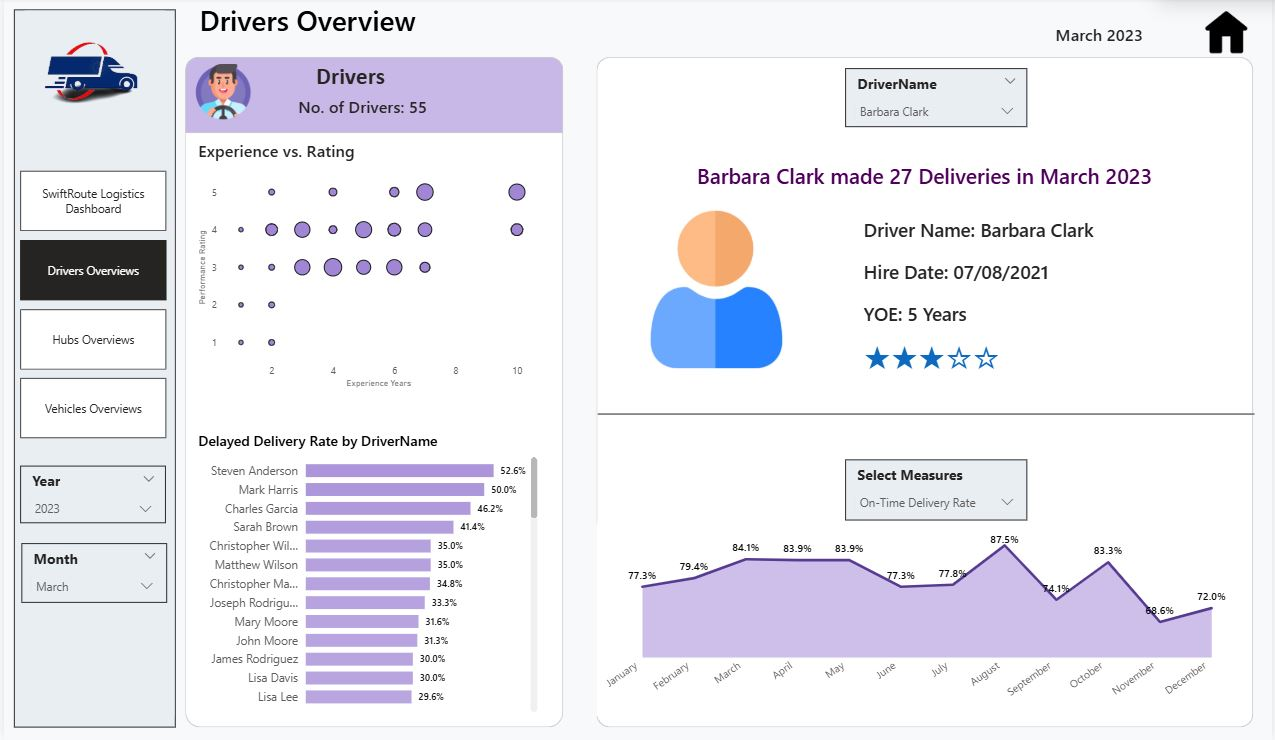

The dashboard page shown, as its layout file describes it:
{"tool":"powerbi","page":{"name":"Drivers Overviews","canvas":[1450,850],"ordinal":1},"visuals":[{"type":"shape","box":[10.9,14,185,820.8],"z":0},{"type":"textbox","box":[219.2,0,505.2,57.5],"z":1000},{"type":"slicer","fields":{"Values":["Date Table.Year"]},"box":[18.7,536.3,166.3,65.3],"z":2000},{"type":"slicer","fields":{"Values":["Date Table.Month"]},"box":[20.2,624.9,166.3,68.4],"z":3000},{"type":"shape","box":[206.7,68.4,432.1,766.4],"z":4000},{"type":"shape","box":[206.7,68.4,432.1,87.1],"z":5000},{"type":"cardVisual","fields":{"Data":["Selected Measures.No. Of Driver"]},"box":[301.6,99.5,217.6,48.2],"z":6000},{"type":"textbox","box":[337.9,68.7,118.1,52.9],"z":7000},{"type":"scatterChart","title":"Experience vs. Rating","fields":{"X":["Drivers.Experience Years"],"Y":["Drivers.Performance Rating"],"Size":["Sum(Drivers.Experience Years)1"]},"box":[217.6,163.2,397.9,289.1],"z":8000},{"type":"barChart","fields":{"Category":["Drivers.DriverName"],"Y":["Selected Measures.Delayed Delivery Rate"]},"box":[217.6,495.9,397.9,326.4],"z":9000},{"type":"image","box":[18.7,21.8,164.8,125.9],"z":10000},{"type":"cardVisual","fields":{"Data":["Selected Measures.Year Month Title"]},"box":[1123.9,14,258,54.4],"z":11000},{"type":"shape","box":[677.7,68.4,750.8,766.4],"z":12000},{"type":"slicer","fields":{"Values":["Drivers.DriverName"]},"box":[962.2,80.8,208.3,66.8],"z":13000},{"type":"cardVisual","fields":{"Data":["Selected Measures.Driver Title"]},"box":[696.4,177.2,713.5,52.9],"z":14000},{"type":"cardVisual","fields":{"Data":["Selected Measures.DriverNameTitle","Selected Measures.HireDate","Selected Measures.YOE","Selected Measures.Star Rating"]},"box":[962.2,230.1,447.7,217.6],"z":15000},{"type":"image","box":[724.4,244.1,180.3,180.3],"z":16000},{"type":"areaChart","fields":{"Y":["Selected Measures.On-Time Delivery Rate"],"Category":["Date Table.Month"]},"box":[677.7,601.6,732.2,220.7],"z":17000},{"type":"slicer","fields":{"Values":["Select Measures.Select Measures"]},"box":[962.2,528.5,208.3,70],"z":18000},{"type":"shape","box":[679.3,447.7,750.8,59.1],"z":19000},{"type":"image","box":[1366.4,10.9,62.2,57.5],"z":20000},{"type":"pageNavigator","box":[18.7,199,167.9,307.8],"z":21000},{"type":"image","box":[219.2,68.4,63.7,79.3],"z":22000}]}

Visuals, with their boxes in screenshot pixels (x1, y1, x2, y2), scaled from the page's 1450x850 canvas onto the 1275x740 screenshot:
shape: {"x1": 10, "y1": 12, "x2": 172, "y2": 727}
textbox: {"x1": 193, "y1": 0, "x2": 637, "y2": 50}
slicer - Date Table.Year: {"x1": 16, "y1": 467, "x2": 163, "y2": 524}
slicer - Date Table.Month: {"x1": 18, "y1": 544, "x2": 164, "y2": 604}
shape: {"x1": 182, "y1": 60, "x2": 562, "y2": 727}
shape: {"x1": 182, "y1": 60, "x2": 562, "y2": 135}
cardVisual - Selected Measures.No. Of Driver: {"x1": 265, "y1": 87, "x2": 457, "y2": 129}
textbox: {"x1": 297, "y1": 60, "x2": 401, "y2": 106}
"Experience vs. Rating" scatterChart: {"x1": 191, "y1": 142, "x2": 541, "y2": 394}
barChart - Drivers.DriverName x Selected Measures.Delayed Delivery Rate: {"x1": 191, "y1": 432, "x2": 541, "y2": 716}
image: {"x1": 16, "y1": 19, "x2": 161, "y2": 129}
cardVisual - Selected Measures.Year Month Title: {"x1": 988, "y1": 12, "x2": 1215, "y2": 60}
shape: {"x1": 596, "y1": 60, "x2": 1256, "y2": 727}
slicer - Drivers.DriverName: {"x1": 846, "y1": 70, "x2": 1029, "y2": 128}
cardVisual - Selected Measures.Driver Title: {"x1": 612, "y1": 154, "x2": 1240, "y2": 200}
cardVisual - Selected Measures.DriverNameTitle x Selected Measures.HireDate: {"x1": 846, "y1": 200, "x2": 1240, "y2": 390}
image: {"x1": 637, "y1": 213, "x2": 796, "y2": 369}
areaChart - Selected Measures.On-Time Delivery Rate x Date Table.Month: {"x1": 596, "y1": 524, "x2": 1240, "y2": 716}
slicer - Select Measures.Select Measures: {"x1": 846, "y1": 460, "x2": 1029, "y2": 521}
shape: {"x1": 597, "y1": 390, "x2": 1258, "y2": 441}
image: {"x1": 1201, "y1": 9, "x2": 1256, "y2": 60}
pageNavigator: {"x1": 16, "y1": 173, "x2": 164, "y2": 441}
image: {"x1": 193, "y1": 60, "x2": 249, "y2": 129}
